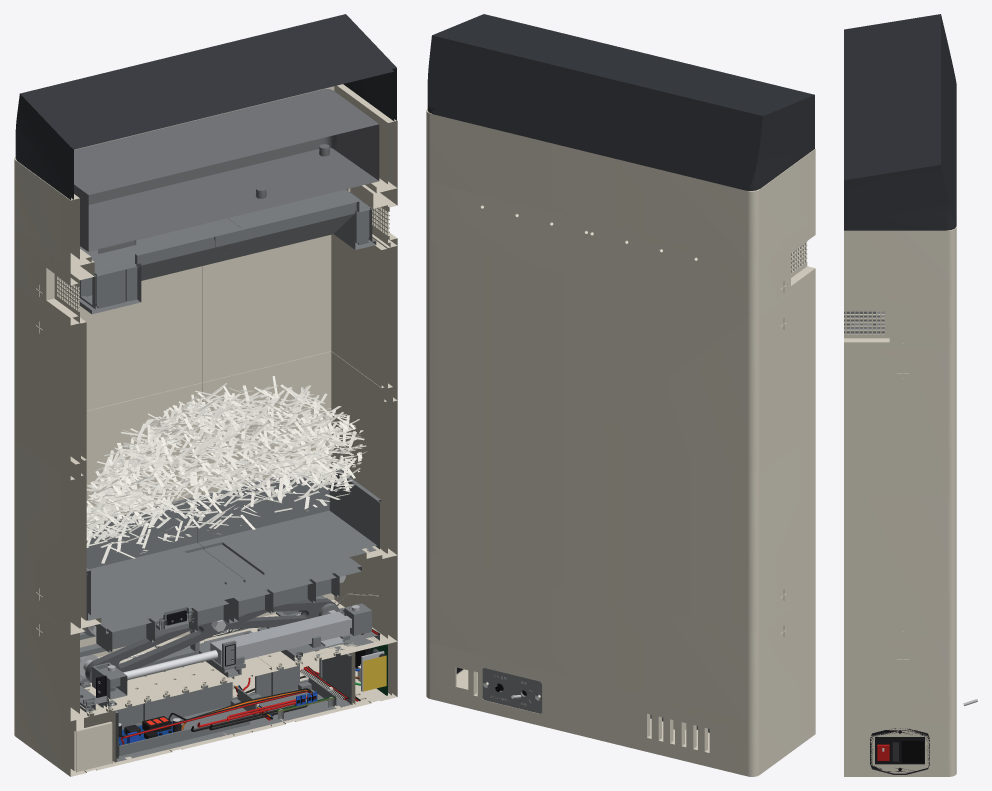
3 views of the same model, side by side, from view 1: azimuth 30°, elevation 25°; view 2: azimuth 150°, elevation 25°; view 3: azimuth 270°, elevation 25° (orthographic). The views are drawn at different scales.
Visible parts, largest first — view 1: head, s2_bin, s2_paper, s2_outer, s2_tray, s3, c1_box, c0_drawer, c0_box, L_fixed, s4, L_1-L6 (+7 smaller); view 2: s2_outer, head, c1_box, s4, s3, c0_box, c0_fix; view 3: s2_outer, head, c1_box, s4, s3, c0_box, c0_fix.
Part boxes in pixels (<box>): head: <box>15,14,396,254</box>; s2_bin: <box>65,234,387,628</box>; s2_paper: <box>86,376,367,563</box>; s2_outer: <box>14,234,397,634</box>; s2_tray: <box>86,463,380,620</box>; s3: <box>14,181,397,325</box>; c1_box: <box>14,548,397,720</box>; c0_drawer: <box>115,653,351,761</box>; c0_box: <box>14,635,397,776</box>; L_fixed: <box>80,595,379,712</box>; s4: <box>14,84,397,267</box>; L_1-L6: <box>80,588,233,652</box>; s2_outer: <box>426,238,815,632</box>; head: <box>427,14,814,190</box>; c1_box: <box>426,552,815,720</box>; s4: <box>426,109,815,259</box>; s3: <box>426,180,815,318</box>; c0_box: <box>426,640,815,776</box>; c0_fix: <box>456,667,542,713</box>; s2_outer: <box>844,346,956,642</box>; head: <box>844,14,956,230</box>; c1_box: <box>844,640,956,724</box>; s4: <box>844,83,956,294</box>; s3: <box>844,292,956,349</box>; c0_box: <box>844,721,956,776</box>; c0_fix: <box>870,699,977,774</box>.
Bounding box in the file's own units: 0.3517 × 0.651 × 0.1291.
43 materials, 2 textured.
